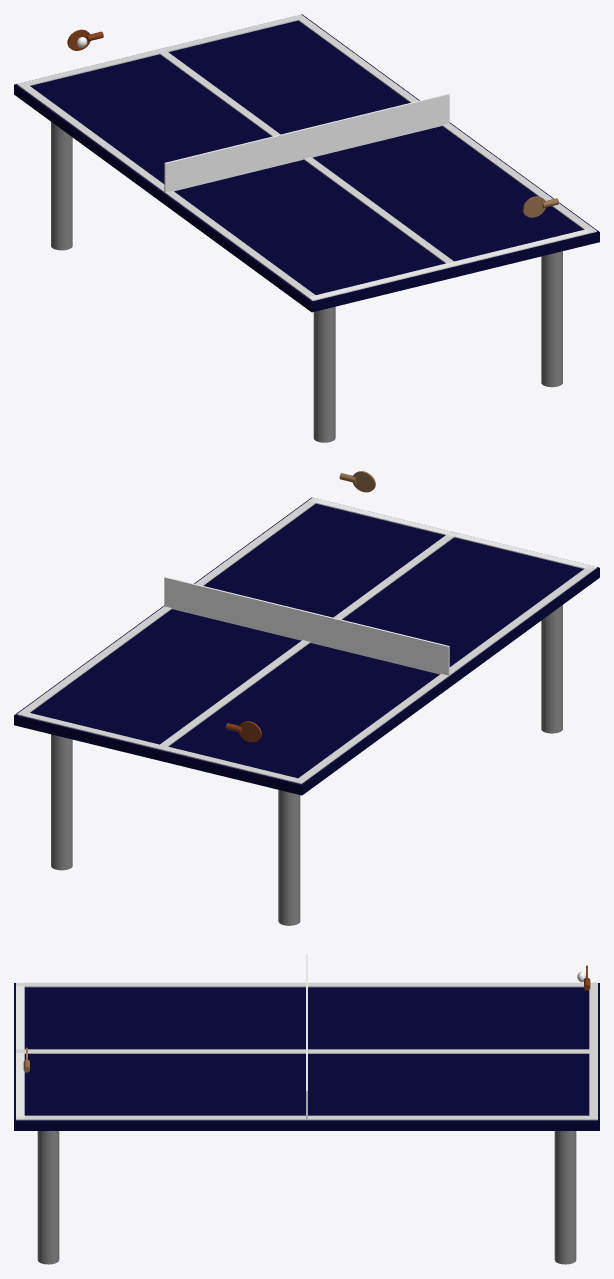
Rendered from pingpong.fbx.
The picture shows the model from 3 angles, top to bottom: view 1: azimuth 30°, elevation 25°; view 2: azimuth 150°, elevation 25°; view 3: azimuth 270°, elevation 25°; orthographic projection.
Parts seen in each view (by area): view 1: Cube.002, Cube.003, Cube.001, Cylinder.002, Cylinder.003, Cylinder.001; view 2: Cube.002, Cube.003, Cube.001, Cylinder.001, Cylinder, Cylinder.002; view 3: Cube.002, Cube.003, Cylinder, Cylinder.003.
Boxes of the visible parts, x1,y1,x2,y2 form: Cube.002: [14, 14, 599, 312]; Cube.003: [17, 14, 596, 301]; Cube.001: [164, 93, 449, 192]; Cylinder.002: [313, 306, 335, 442]; Cylinder.003: [541, 251, 562, 387]; Cylinder.001: [51, 122, 72, 250]; Cube.002: [14, 497, 599, 795]; Cube.003: [17, 497, 596, 784]; Cube.001: [164, 576, 449, 675]; Cylinder.001: [278, 790, 300, 925]; Cylinder: [51, 734, 72, 870]; Cylinder.002: [541, 605, 562, 733]; Cube.002: [14, 983, 599, 1130]; Cube.003: [16, 982, 597, 1120]; Cylinder: [554, 1131, 576, 1264]; Cylinder.003: [37, 1131, 59, 1264].
Size of the model in its own units: 3040 by 2020 by 5440.
